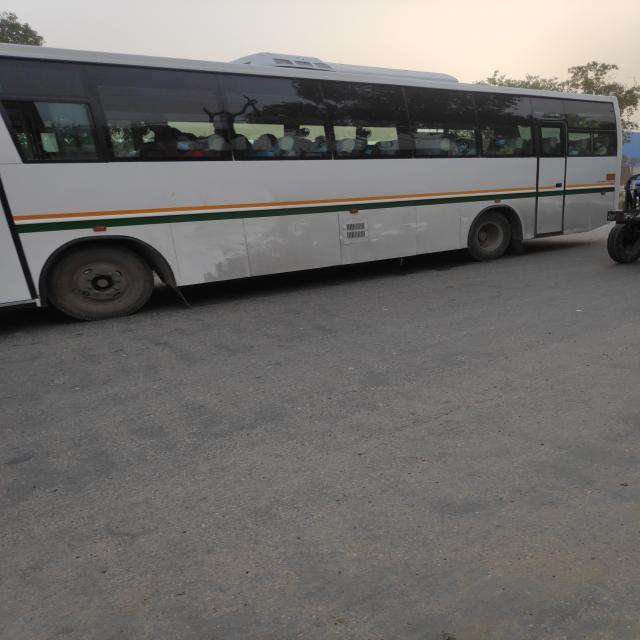Bus: (27, 12, 634, 348)
